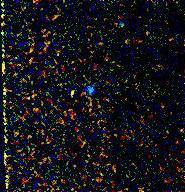star: (56, 78, 86, 108)
